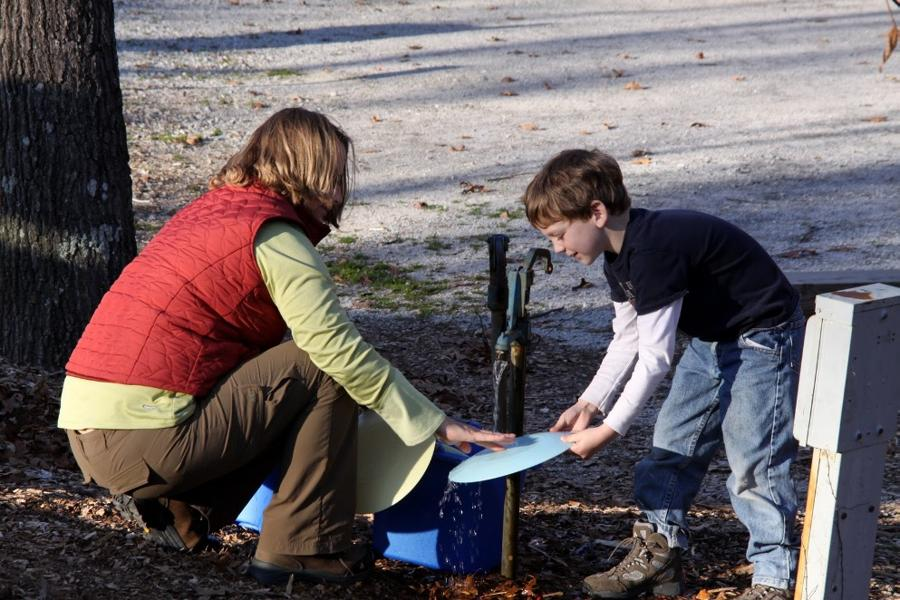person: (52, 102, 518, 585)
